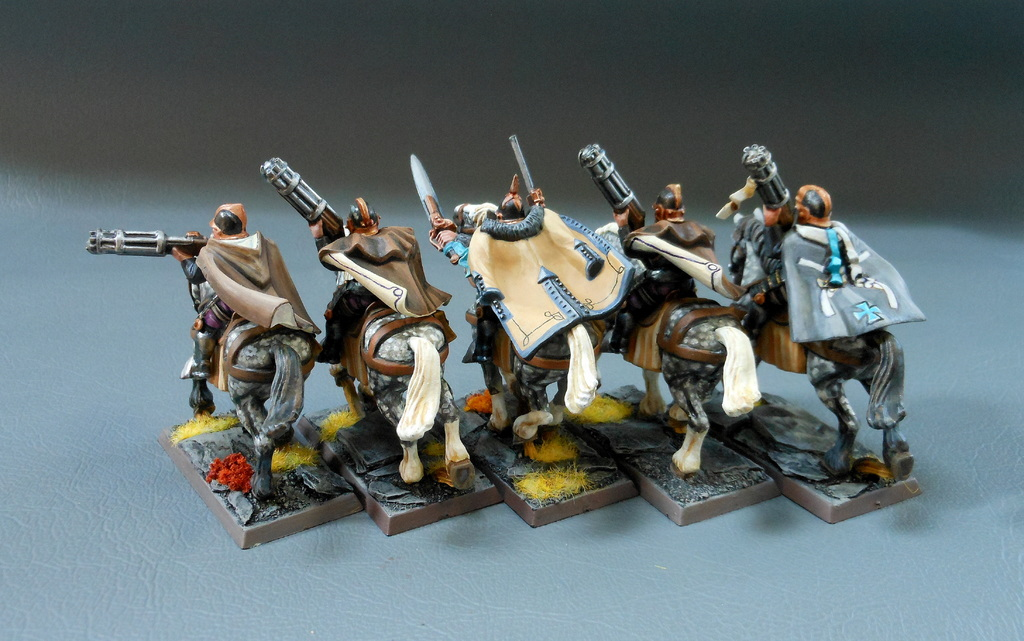Person: (170, 173, 926, 421)
